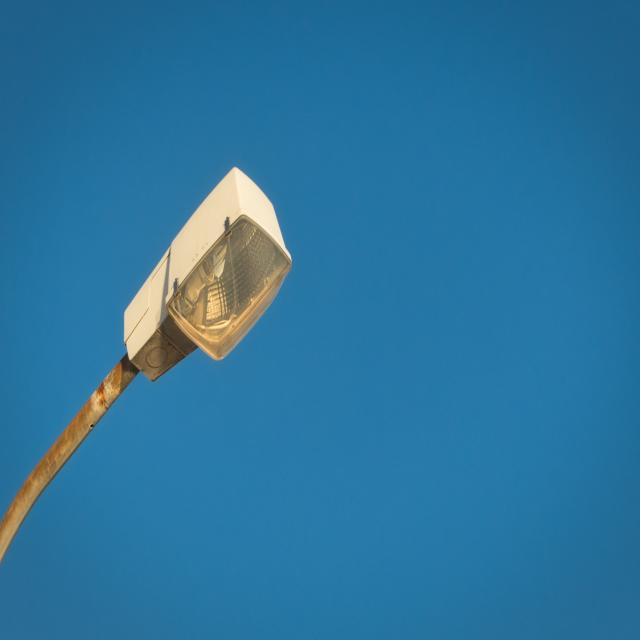Street Light: (0, 165, 295, 571)
